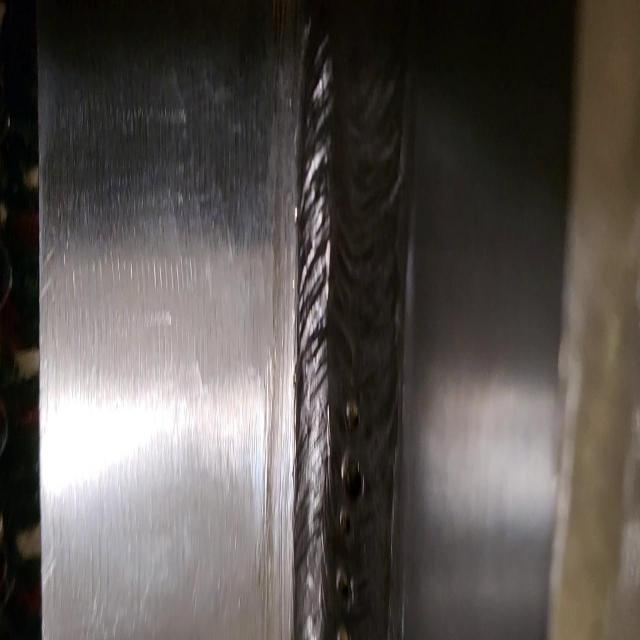Welding Line: (304, 13, 394, 640)
Workpiece: (36, 4, 572, 640)
porosity: (342, 398, 364, 518)
